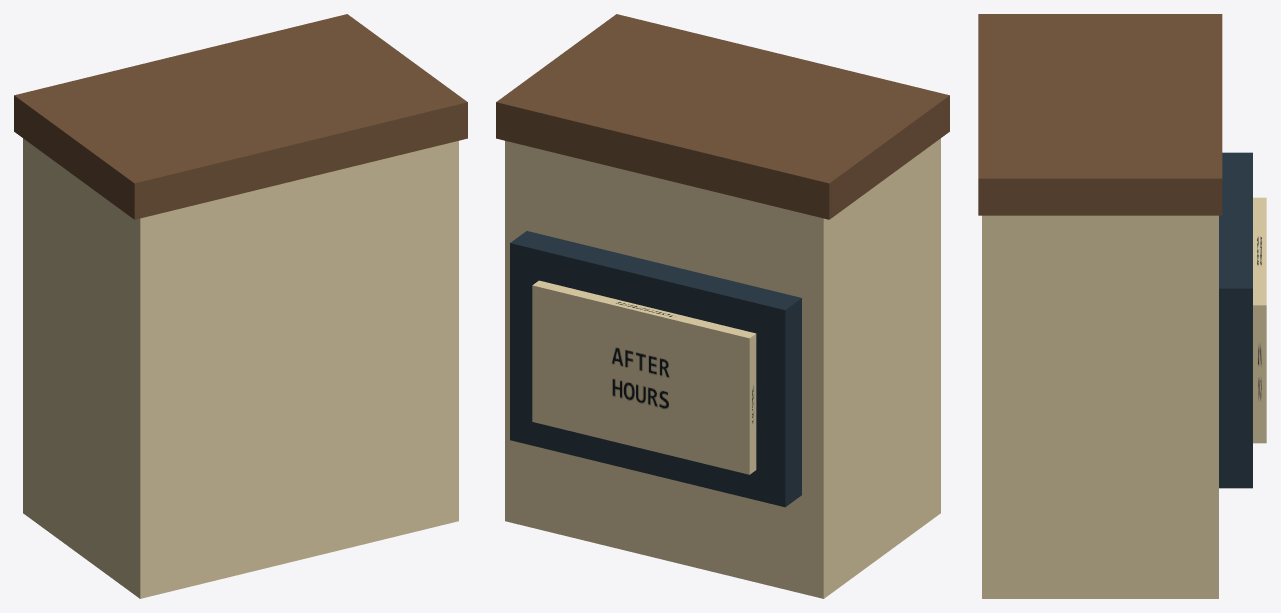
The model's file is horror_takeaway_bag.obj.
3 renders of one model, left to right at view 1: azimuth 30°, elevation 25°; view 2: azimuth 150°, elevation 25°; view 3: azimuth 270°, elevation 25°, orthographic.
Parts seen in each view (by area): view 1: Bag, Fold; view 2: Bag, Fold, BrandFace, BrandFrame; view 3: Bag, Fold, BrandFrame, BrandFace.
Part boxes in pixels (bbox=[...]): Bag: bbox=[23, 138, 458, 598]; Fold: bbox=[14, 14, 467, 219]; Bag: bbox=[505, 138, 940, 598]; Fold: bbox=[496, 14, 949, 219]; BrandFace: bbox=[532, 280, 756, 474]; BrandFrame: bbox=[510, 231, 801, 507]; Bag: bbox=[982, 215, 1218, 598]; Fold: bbox=[978, 14, 1222, 215]; BrandFrame: bbox=[1219, 152, 1252, 488]; BrandFace: bbox=[1253, 197, 1266, 443].
Bounding box in the file's own units: 1.15 × 1.38 × 0.85.
Materials: 4 (1 with a texture image).
